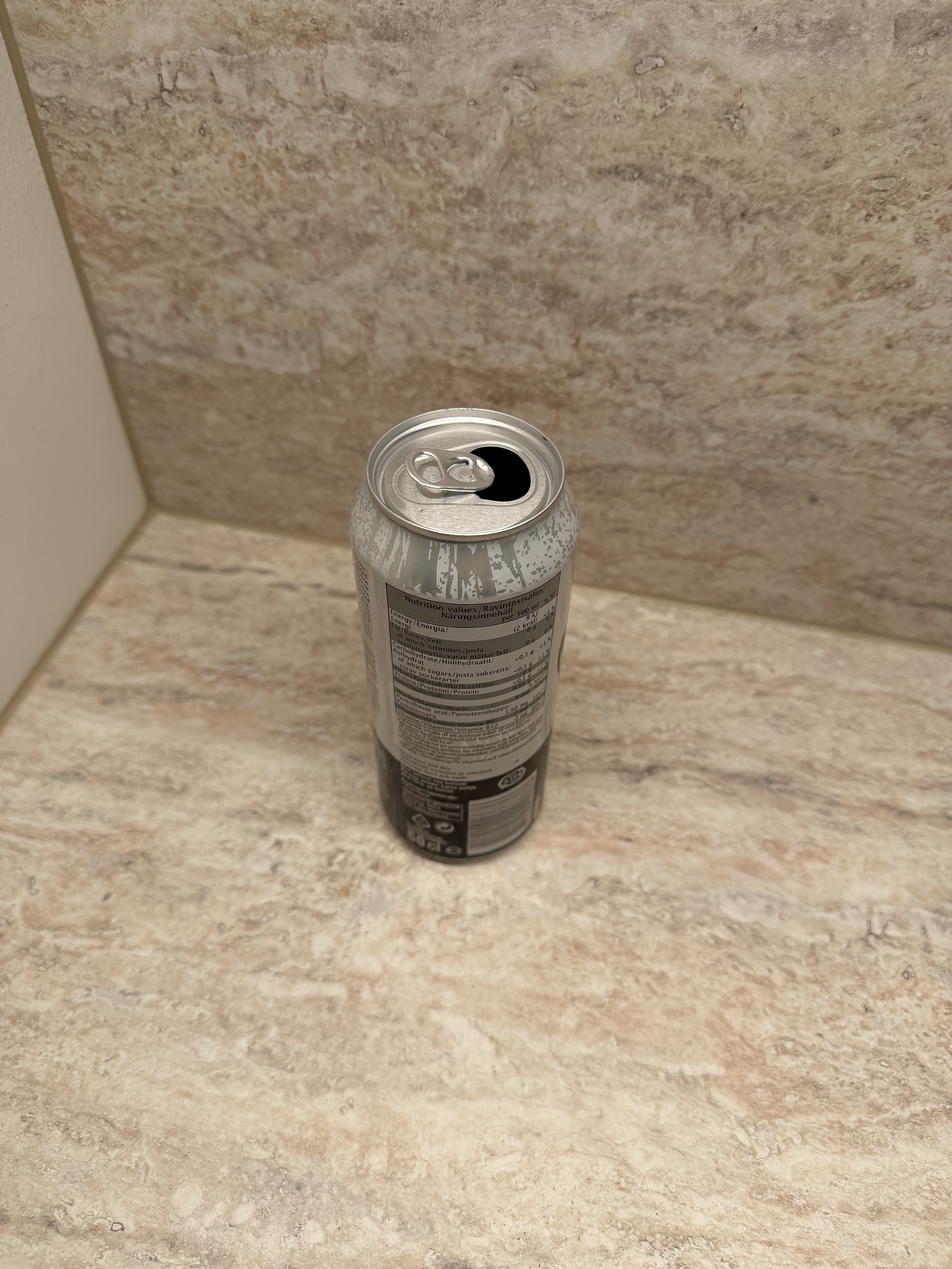Pantburk: (321, 403, 609, 873)
